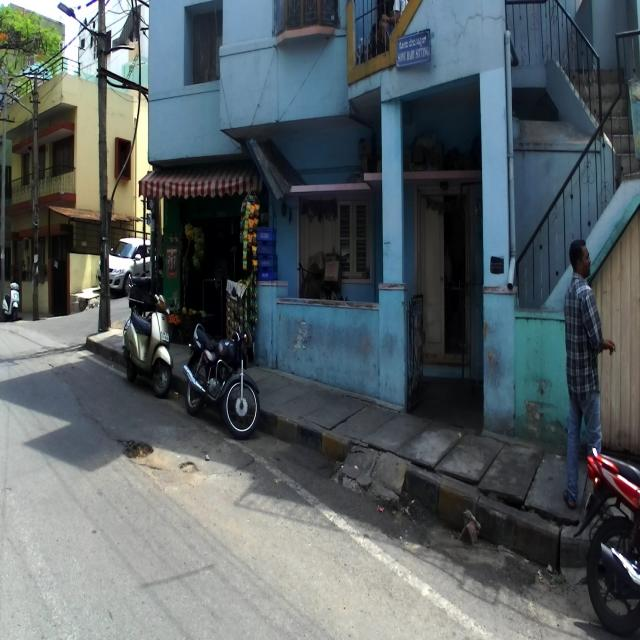car: (96, 236, 159, 297)
motorcycle: (183, 309, 259, 435)
scooter: (122, 292, 174, 397), (2, 278, 21, 320)
